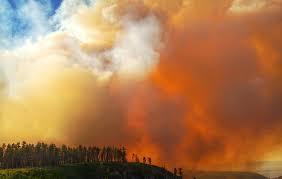yanwu: (0, 0, 282, 138)
